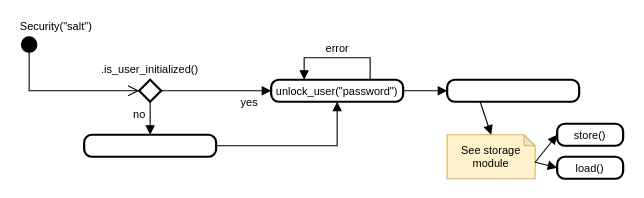
Some shapes in this 644 by 198 pixel diagram are drawn without their labels. The shapes that lost their labels are listed below. From the top down, each one's box as (x1, y1, x2, y2) in pixels, then its label:
(446, 78, 580, 102): .get_storage_method()
(82, 133, 217, 157): .init_user("password")
